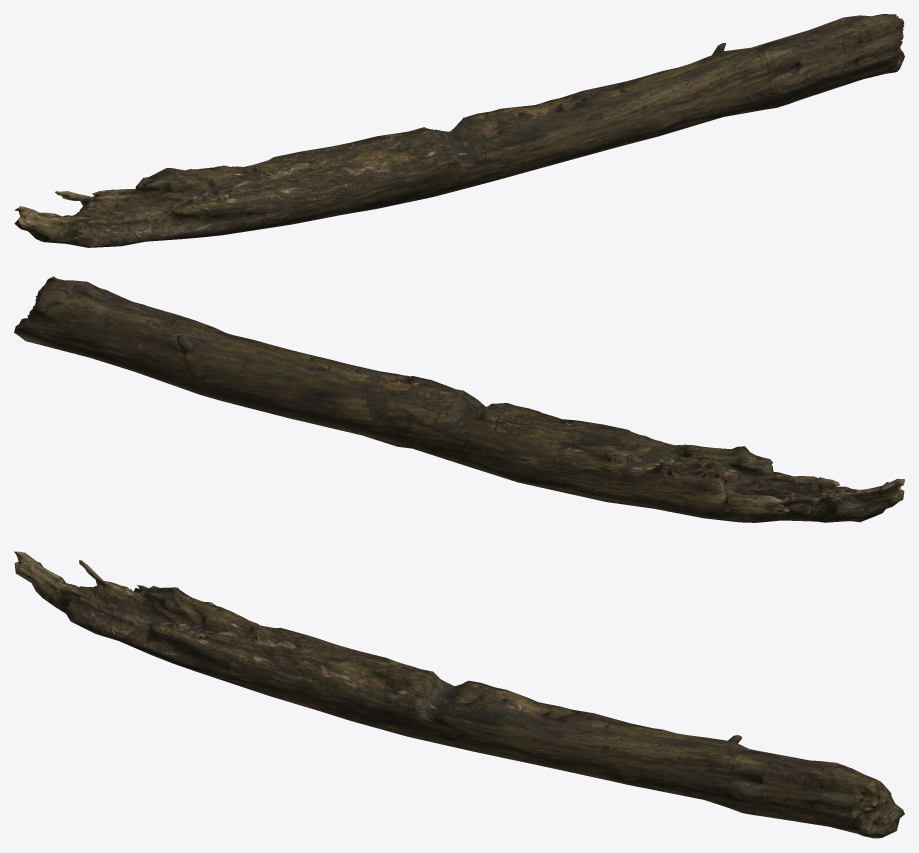
Rendered from dead_tree_trunk.glb.
3 views of the same model, one above another, from view 1: azimuth 30°, elevation 25°; view 2: azimuth 150°, elevation 25°; view 3: azimuth 330°, elevation 25° (orthographic).
Visible parts, largest first — view 1: dead_tree_trunk; view 2: dead_tree_trunk; view 3: dead_tree_trunk.
Boxes of the visible parts, x1,y1,x2,y2 form: dead_tree_trunk: (14,14,904,247); dead_tree_trunk: (14,276,904,522); dead_tree_trunk: (14,551,904,838).
Bounding box in the file's own units: 3.05 × 0.2868 × 0.2775.
Materials: 1 (1 with a texture image).
